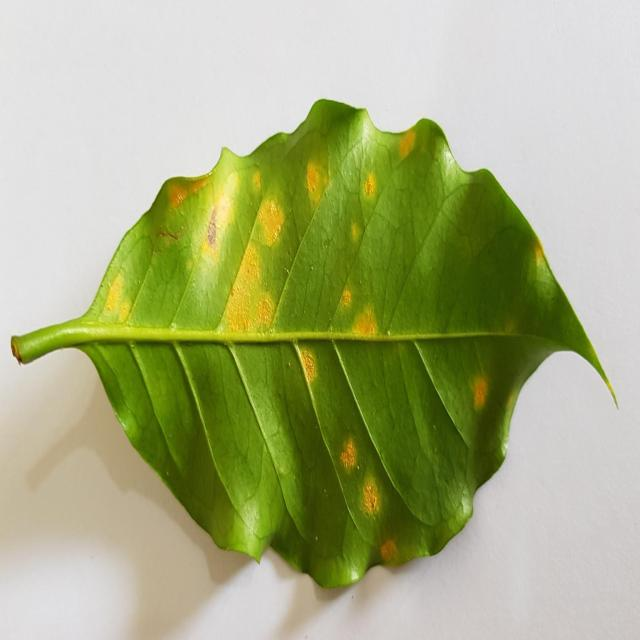rust: (226, 243, 276, 339), (197, 202, 235, 266), (101, 269, 137, 328), (257, 188, 285, 247), (305, 156, 329, 208), (349, 300, 381, 337), (363, 157, 379, 209), (473, 367, 489, 412), (300, 347, 317, 386), (340, 436, 357, 474), (363, 476, 378, 514), (343, 291, 352, 301)
